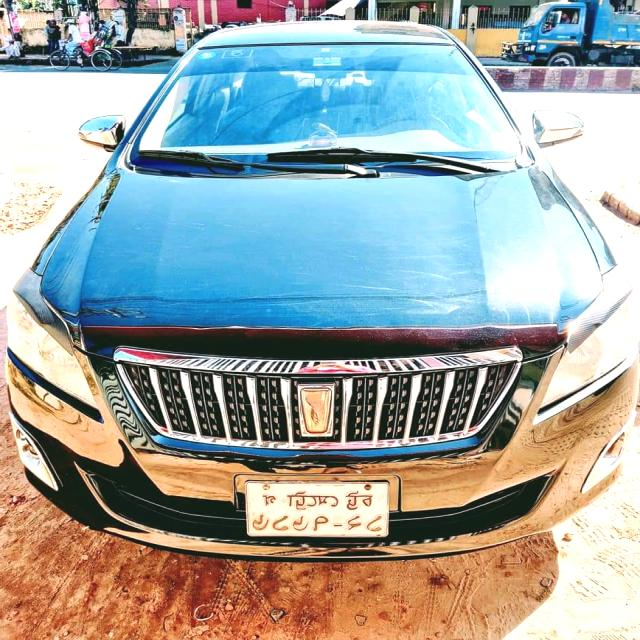black: (7, 20, 638, 563)
